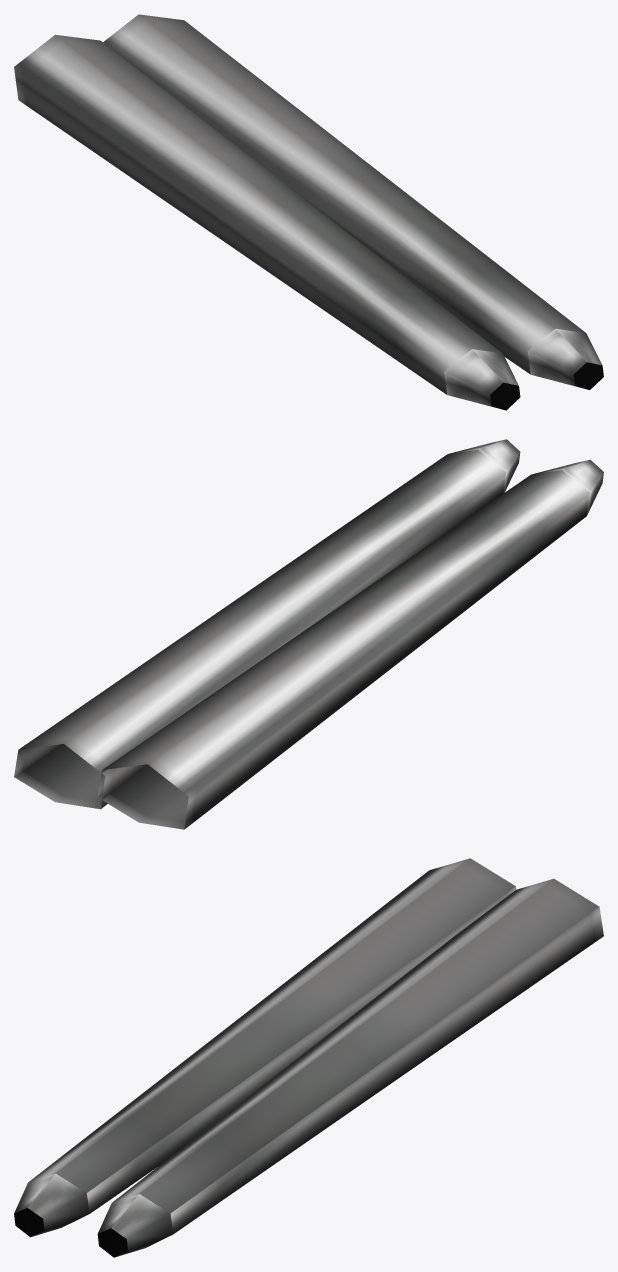
File: exh_lr_slv2.glb
The picture shows the model from 3 angles, top to bottom: view 1: azimuth 30°, elevation 25°; view 2: azimuth 150°, elevation 25°; view 3: azimuth 330°, elevation 25°; orthographic projection.
Visible parts, largest first — view 1: exh_lr_slv2; view 2: exh_lr_slv2; view 3: exh_lr_slv2.
Part boxes in pixels (x1,y1,x2,y2): exh_lr_slv2: [14, 14, 603, 410]; exh_lr_slv2: [14, 439, 603, 829]; exh_lr_slv2: [14, 858, 603, 1257].
Size of the model in its own units: 0.2936 by 0.1016 by 1.3.
2 materials, 1 textured.
